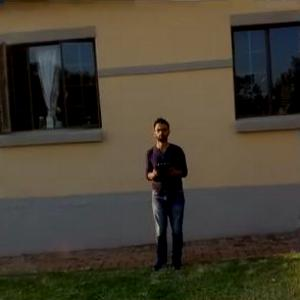follow: (143, 112, 194, 274)
